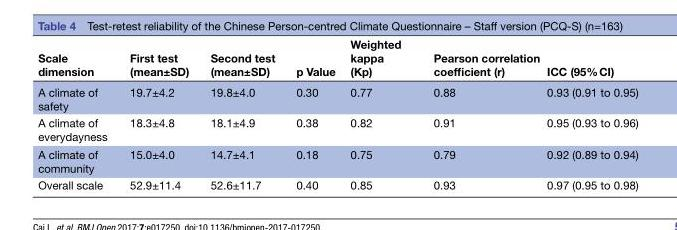table: (37, 36, 637, 191)
table column: (416, 36, 542, 191), (542, 36, 637, 191), (199, 36, 284, 191), (117, 36, 199, 191), (37, 36, 117, 191), (342, 36, 416, 191), (284, 36, 342, 191)
table column header: (37, 36, 637, 81)
table row: (37, 36, 637, 81), (37, 81, 637, 113), (37, 113, 637, 144), (37, 144, 637, 175), (37, 175, 637, 191)
